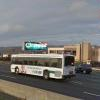Bus: (5, 51, 77, 84)
